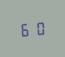six: (19, 21, 31, 37)
zero: (32, 20, 44, 35)
